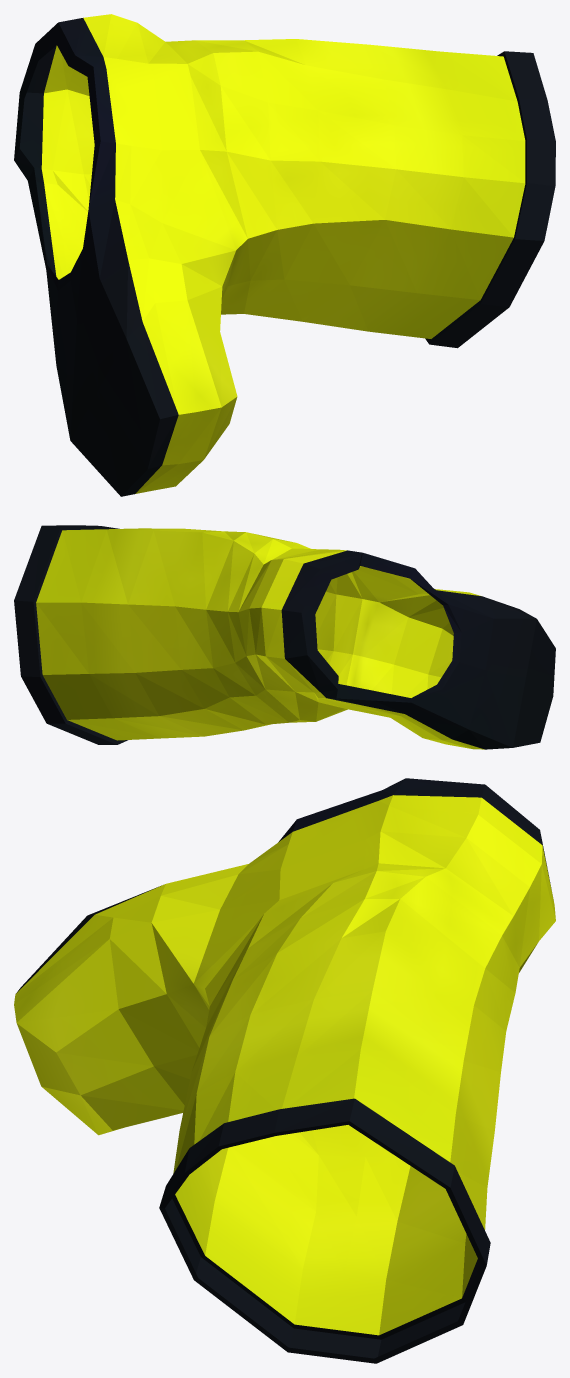
File: YellowHandBootsRight.fbx
3 renders of one model, top to bottom at view 1: azimuth 30°, elevation 25°; view 2: azimuth 150°, elevation 25°; view 3: azimuth 270°, elevation 25°, orthographic. The views are drawn at different scales.
Visible parts, largest first — view 1: YELLOW_HAND_BOOTS; view 2: YELLOW_HAND_BOOTS; view 3: YELLOW_HAND_BOOTS.
Part boxes in pixels (<box>): YELLOW_HAND_BOOTS: <box>14,14,555,496</box>; YELLOW_HAND_BOOTS: <box>14,525,555,749</box>; YELLOW_HAND_BOOTS: <box>14,778,555,1363</box>.
Bounding box in the file's own units: 41.61 × 25.42 × 31.77.
